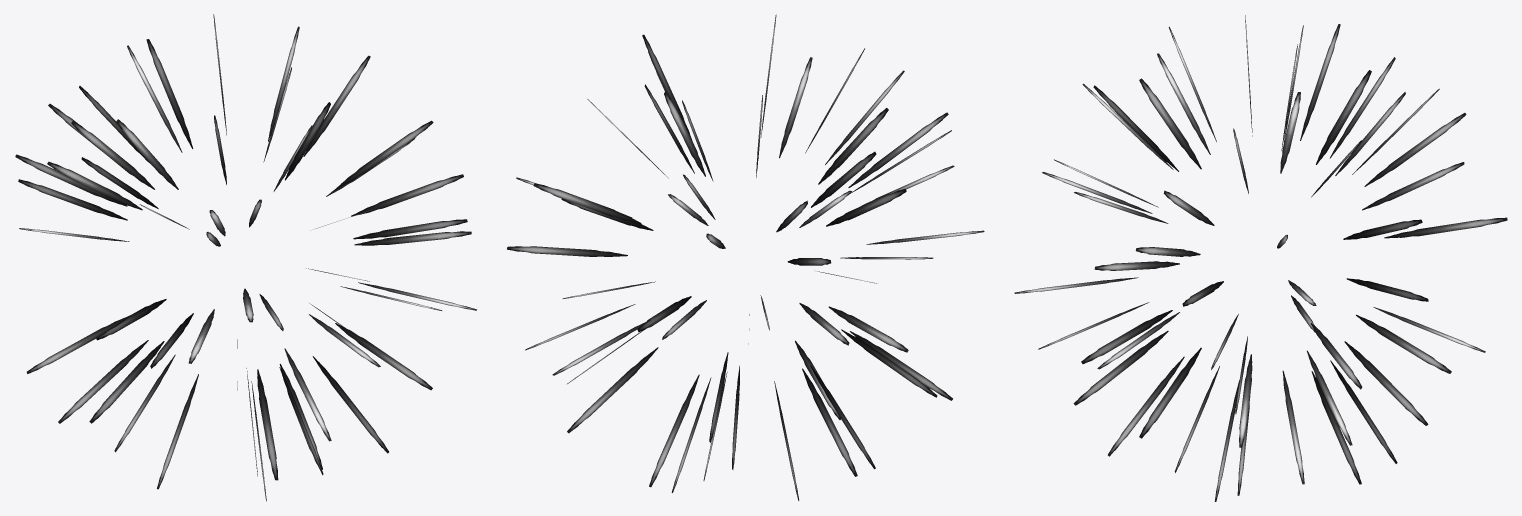
The picture shows the model from 3 angles, left to right: view 1: azimuth 30°, elevation 25°; view 2: azimuth 150°, elevation 25°; view 3: azimuth 270°, elevation 25°; orthographic projection.
Visible parts, largest first — view 1: T1L8M006_25; view 2: T1L8M006_25; view 3: T1L8M006_25.
Boxes of the visible parts, left/top/right/bottom form: T1L8M006_25: left=15, top=14, right=476, bottom=501; T1L8M006_25: left=507, top=14, right=984, bottom=500; T1L8M006_25: left=1014, top=15, right=1507, bottom=501.
Bounding box in the file's own units: 3.85 × 3.83 × 3.94.
